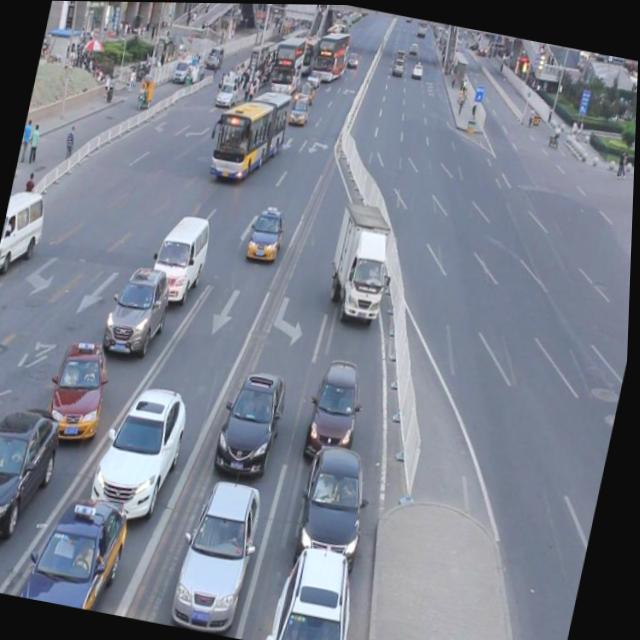bus: (324, 199, 400, 320)
car: (89, 369, 198, 523), (16, 477, 138, 613), (171, 466, 270, 632), (295, 431, 383, 564), (270, 531, 374, 640), (0, 389, 70, 549), (213, 357, 295, 476), (46, 329, 121, 442), (101, 253, 179, 357), (304, 352, 372, 467), (246, 203, 288, 263)
truck: (149, 206, 217, 307), (0, 186, 53, 278)
van: (210, 80, 294, 186)
